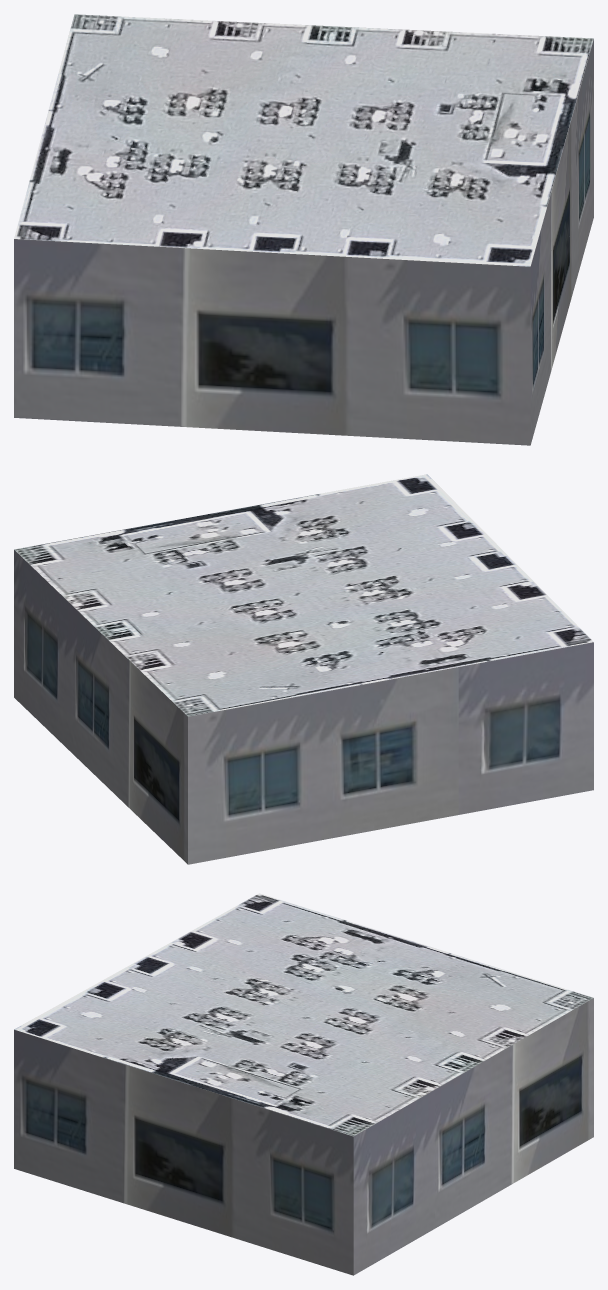
Rendered from ResTex__196.fbx.
The picture shows the model from 3 angles, top to bottom: view 1: azimuth 30°, elevation 25°; view 2: azimuth 150°, elevation 25°; view 3: azimuth 270°, elevation 25°; orthographic projection. The views are drawn at different scales.
Parts seen in each view (by area): view 1: CityEngineMaterial_m, CityEngineMaterial_10_m; view 2: CityEngineMaterial_10_m, CityEngineMaterial_m; view 3: CityEngineMaterial_10_m, CityEngineMaterial_m.
Part boxes in pixels (left/top/right/bottom): CityEngineMaterial_m: left=14, top=14, right=593, bottom=266; CityEngineMaterial_10_m: left=14, top=39, right=593, bottom=445; CityEngineMaterial_10_m: left=14, top=550, right=593, bottom=864; CityEngineMaterial_m: left=14, top=474, right=593, bottom=716; CityEngineMaterial_10_m: left=14, top=998, right=593, bottom=1275; CityEngineMaterial_m: left=14, top=893, right=593, bottom=1136.
Size of the model in its own units: 11.24 by 3 by 11.33.
Materials: 2 (2 with a texture image).
